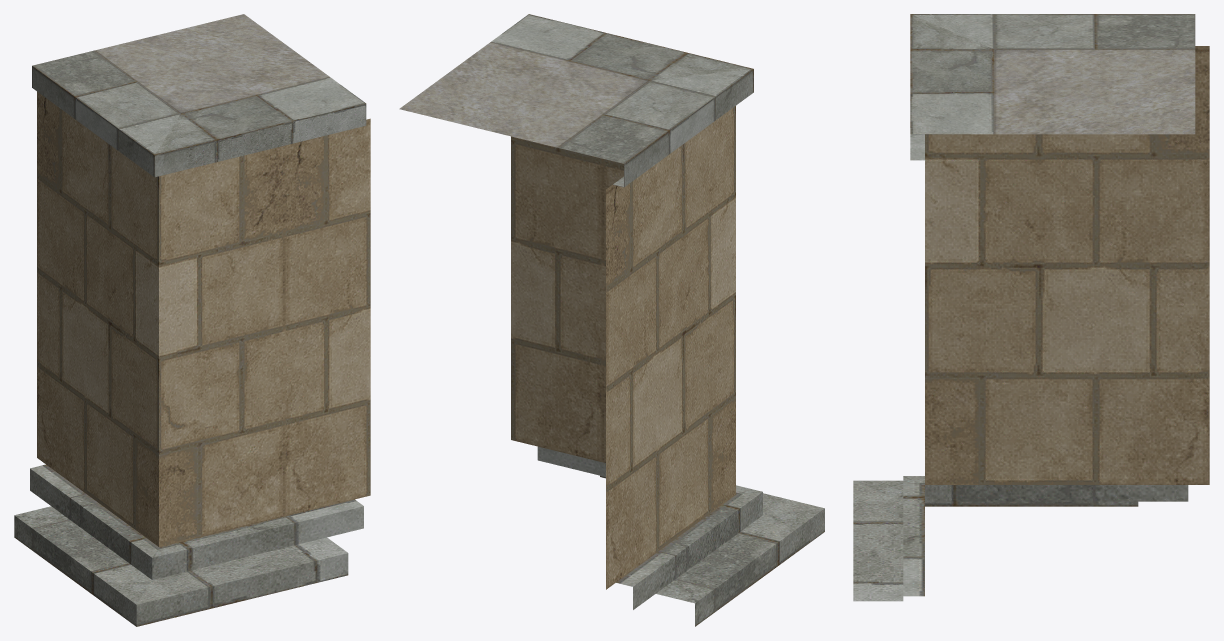
Rendered from block_sqr_cnr_fill_1x1.fbx.
3 renders of one model, left to right at view 1: azimuth 30°, elevation 25°; view 2: azimuth 150°, elevation 25°; view 3: azimuth 270°, elevation 25°, orthographic. The views are drawn at different scales.
Visible parts, largest first — view 1: block_sqr_cnr_fill_1x1; view 2: block_sqr_cnr_fill_1x1; view 3: block_sqr_cnr_fill_1x1.
Boxes of the visible parts, left/top/right/bottom form: block_sqr_cnr_fill_1x1: left=14, top=14, right=370, bottom=626; block_sqr_cnr_fill_1x1: left=399, top=14, right=824, bottom=626; block_sqr_cnr_fill_1x1: left=853, top=14, right=1209, bottom=601.
Bounding box in the file's own units: 125 × 200 × 125.
